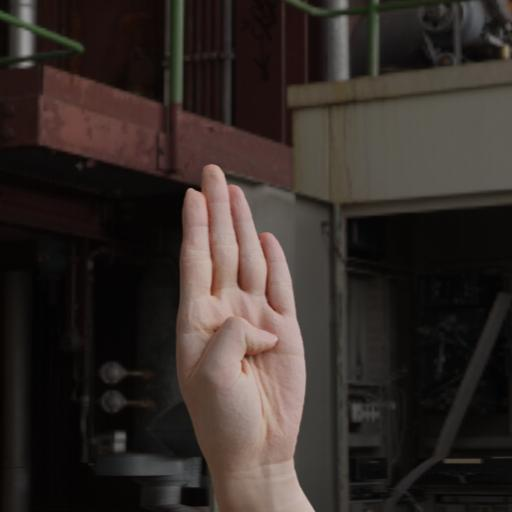B: (172, 160, 318, 478)
